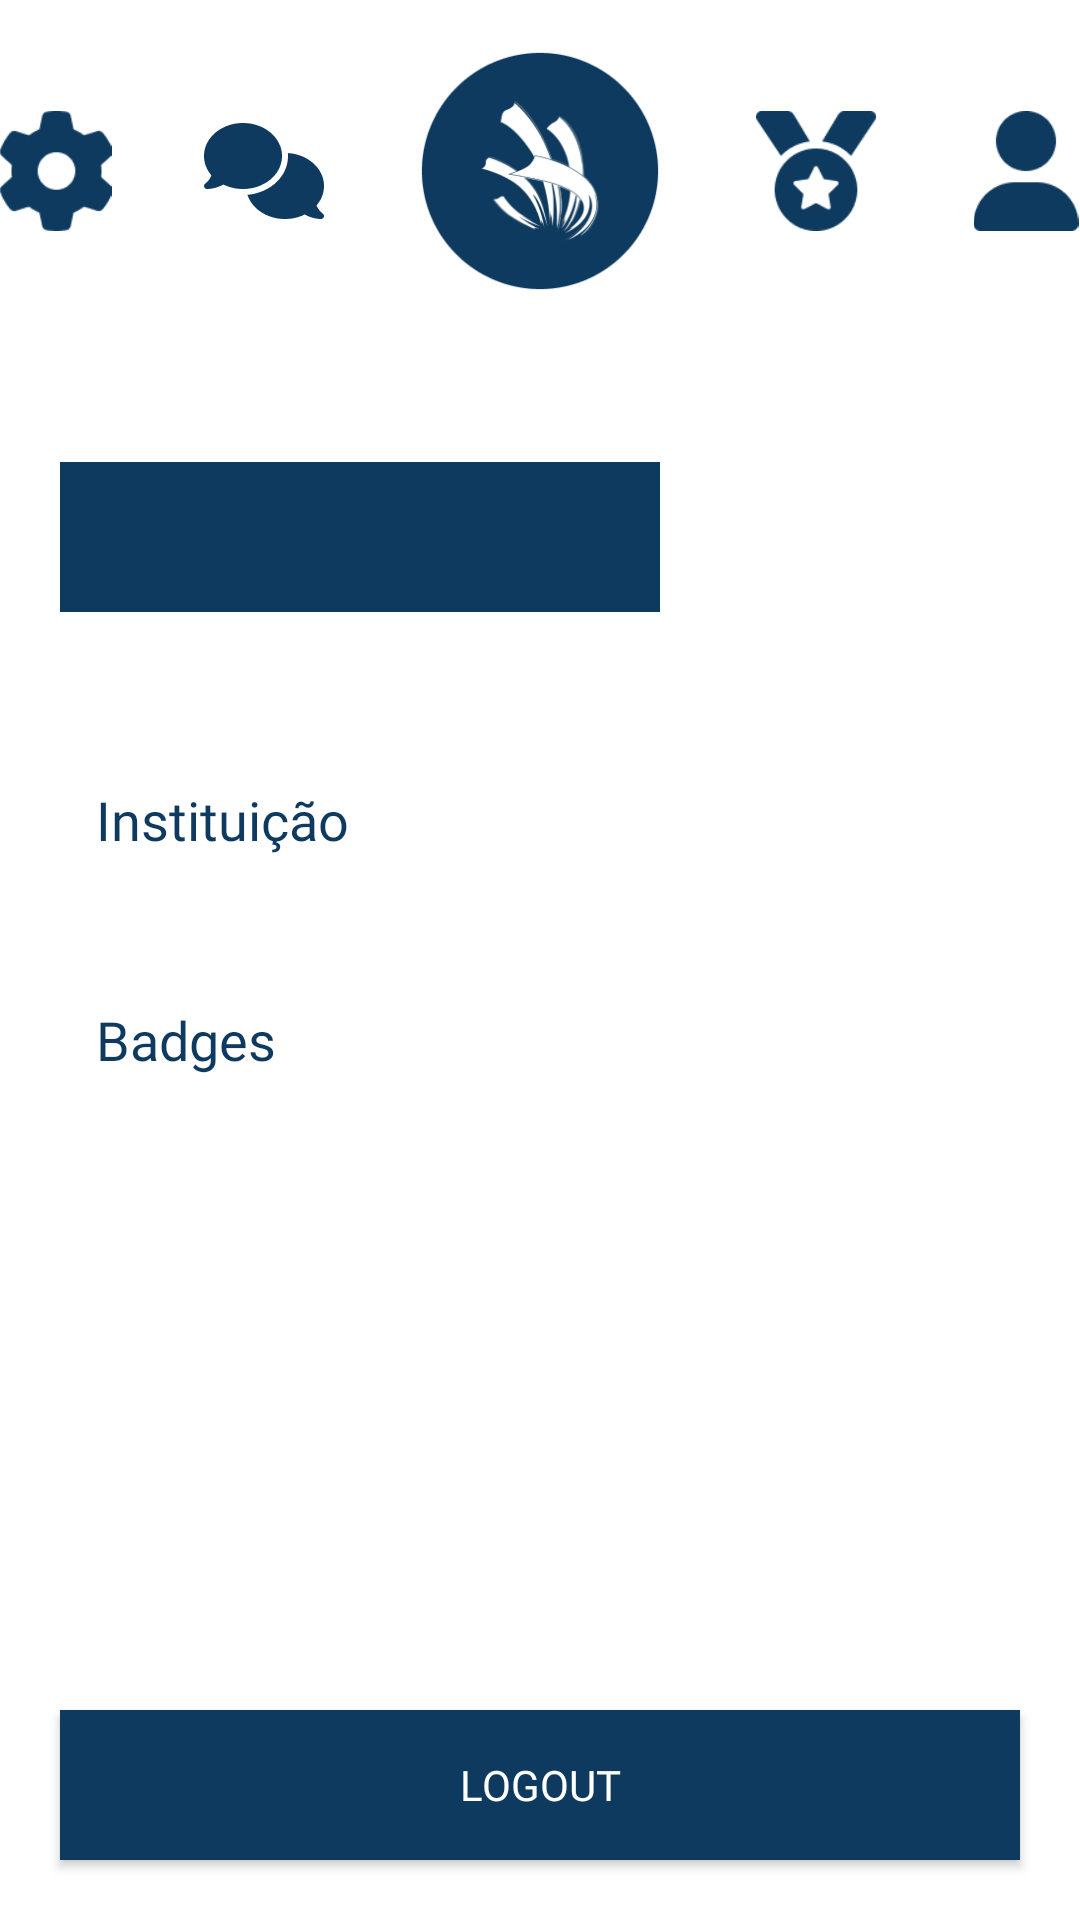

Named icons in this screenshot (1080px x 1920px) and their bounding boxes, (x1, y1, x2, y2):
badges: (756, 111, 876, 231)
chat: (204, 123, 324, 219)
settings: (0, 111, 112, 231)
user: (974, 111, 1079, 231)
